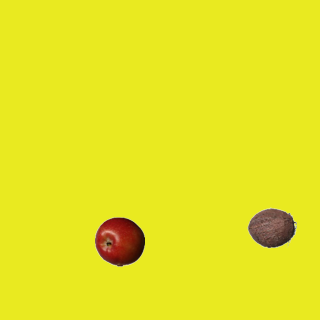Apple Braeburn: (94, 216, 144, 266)
Cocos: (246, 202, 296, 252)
